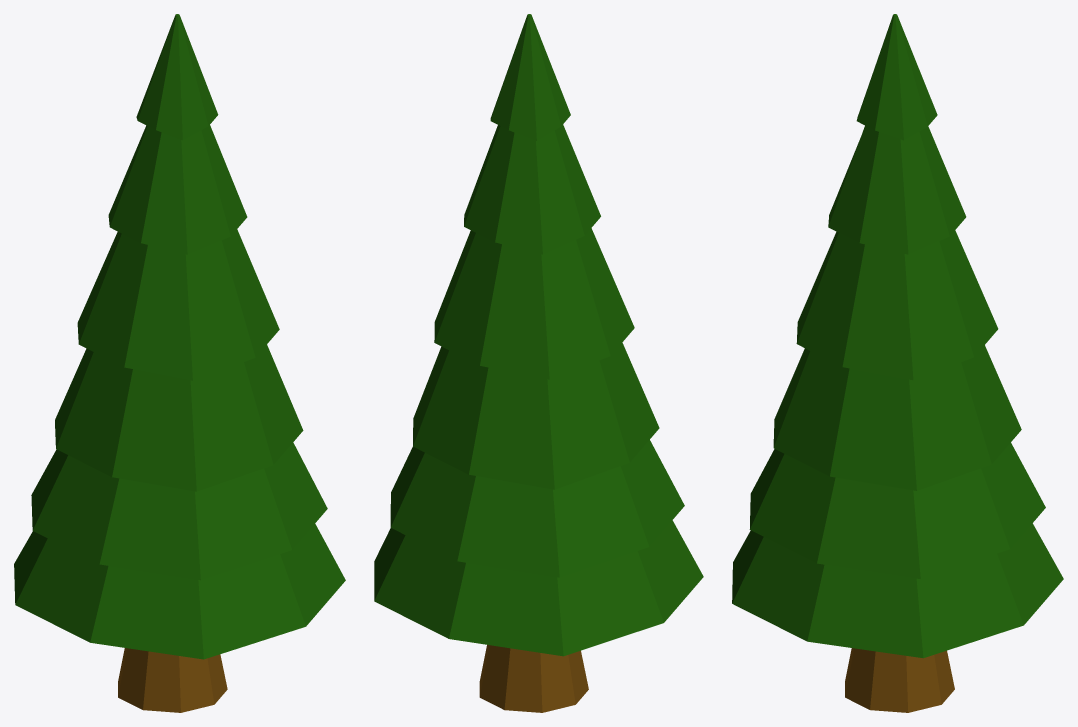
The model's file is tree.fbx.
3 views of the same model, side by side, from view 1: azimuth 30°, elevation 25°; view 2: azimuth 150°, elevation 25°; view 3: azimuth 270°, elevation 25° (orthographic).
Parts seen in each view (by area): view 1: Tree; view 2: Tree; view 3: Tree.
Part boxes in pixels (x1=…): Tree: x1=14, y1=14, x2=345, y2=712; Tree: x1=374, y1=14, x2=703, y2=712; Tree: x1=732, y1=14, x2=1063, y2=712.
Bounding box in the file's own units: 69.17 × 154 × 68.28.
